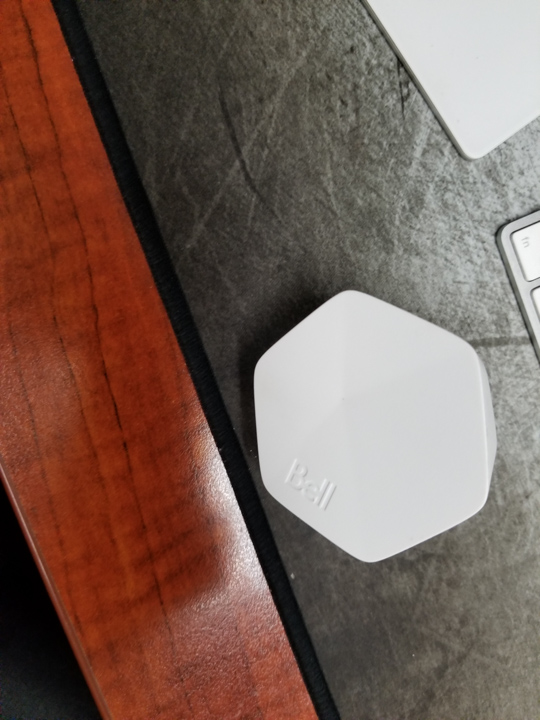pod: (247, 286, 504, 571)
